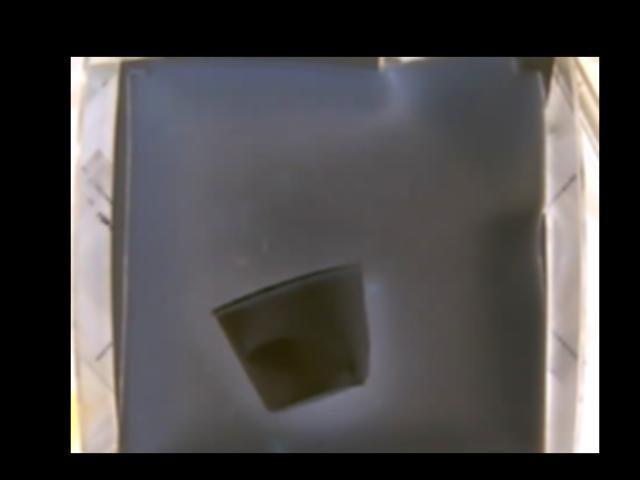Cup: (210, 258, 372, 409)
